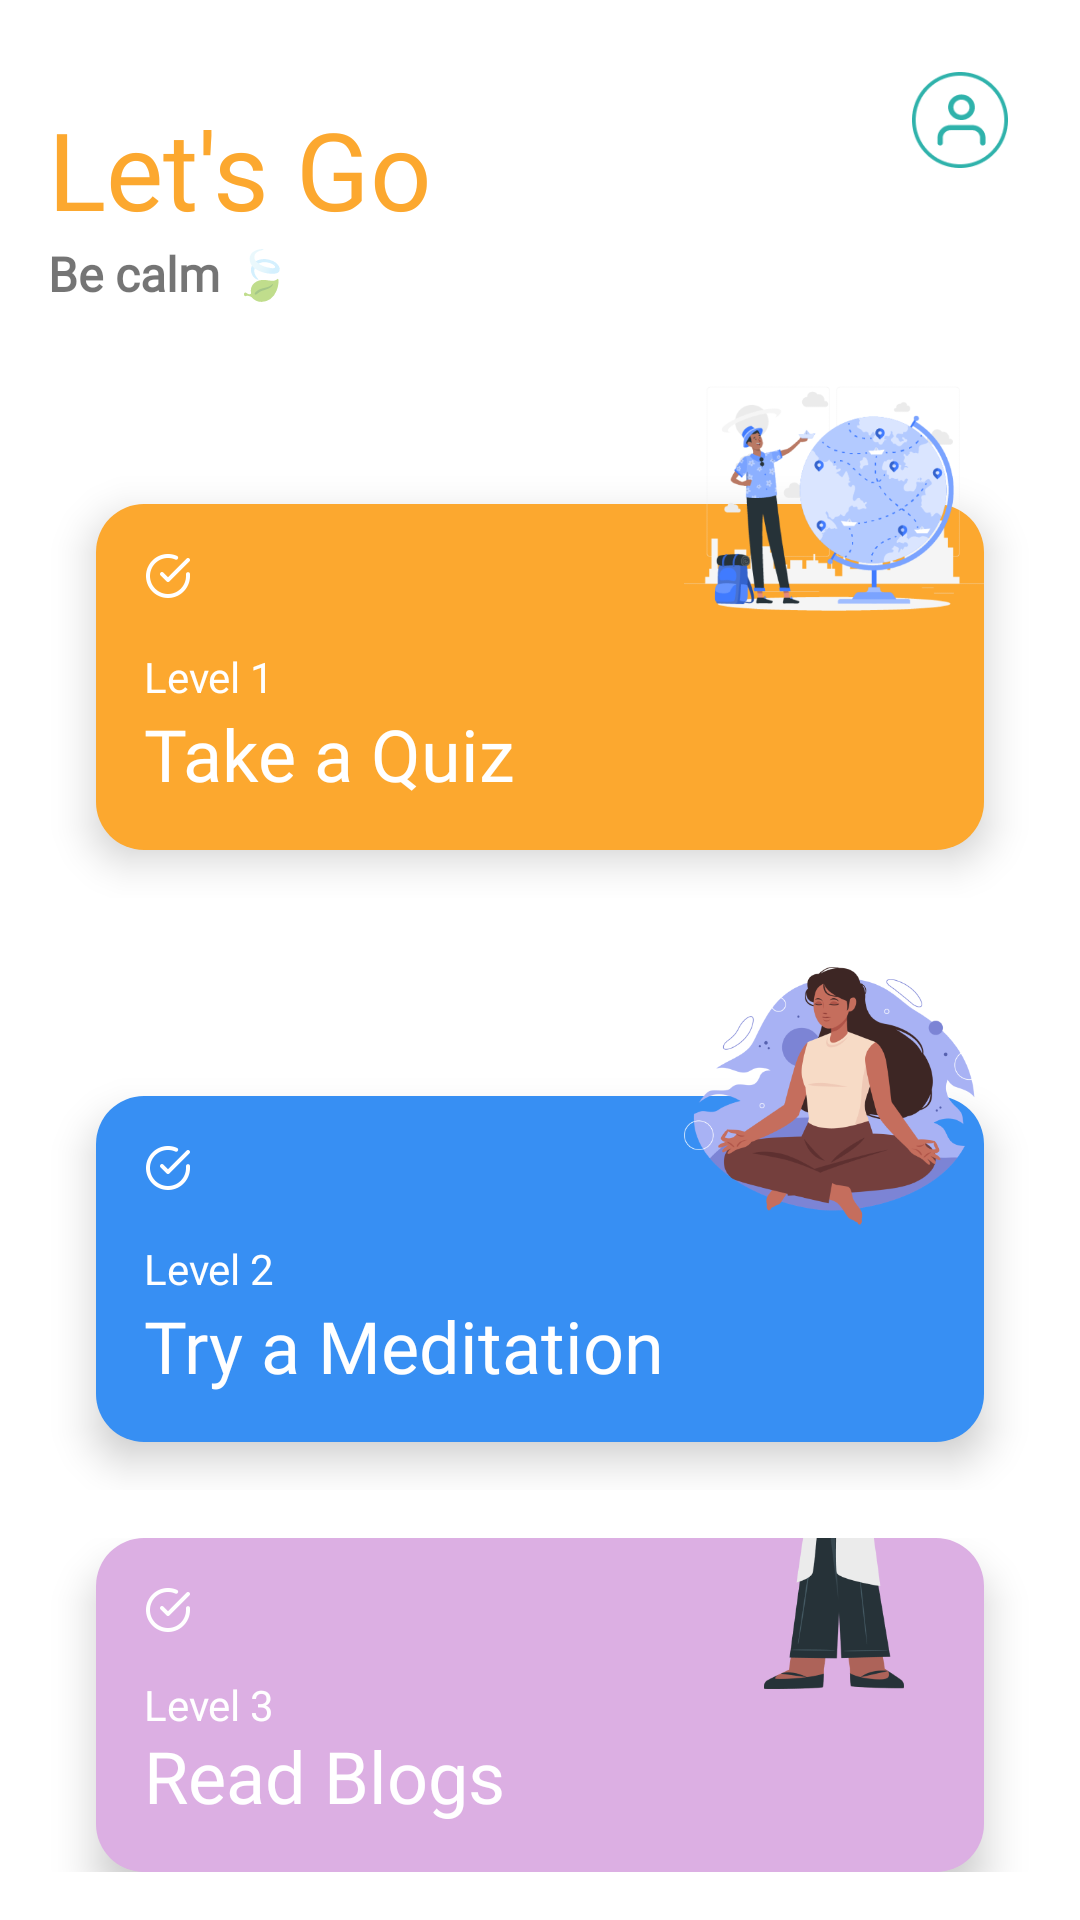

Icon bounding boxes for this 1080x1920 phone screenshot, format (x1, y1, x2, y2):
check circle: (146, 554, 190, 598), (146, 1146, 190, 1190), (146, 1588, 190, 1632)
profile: (912, 72, 1008, 168)
